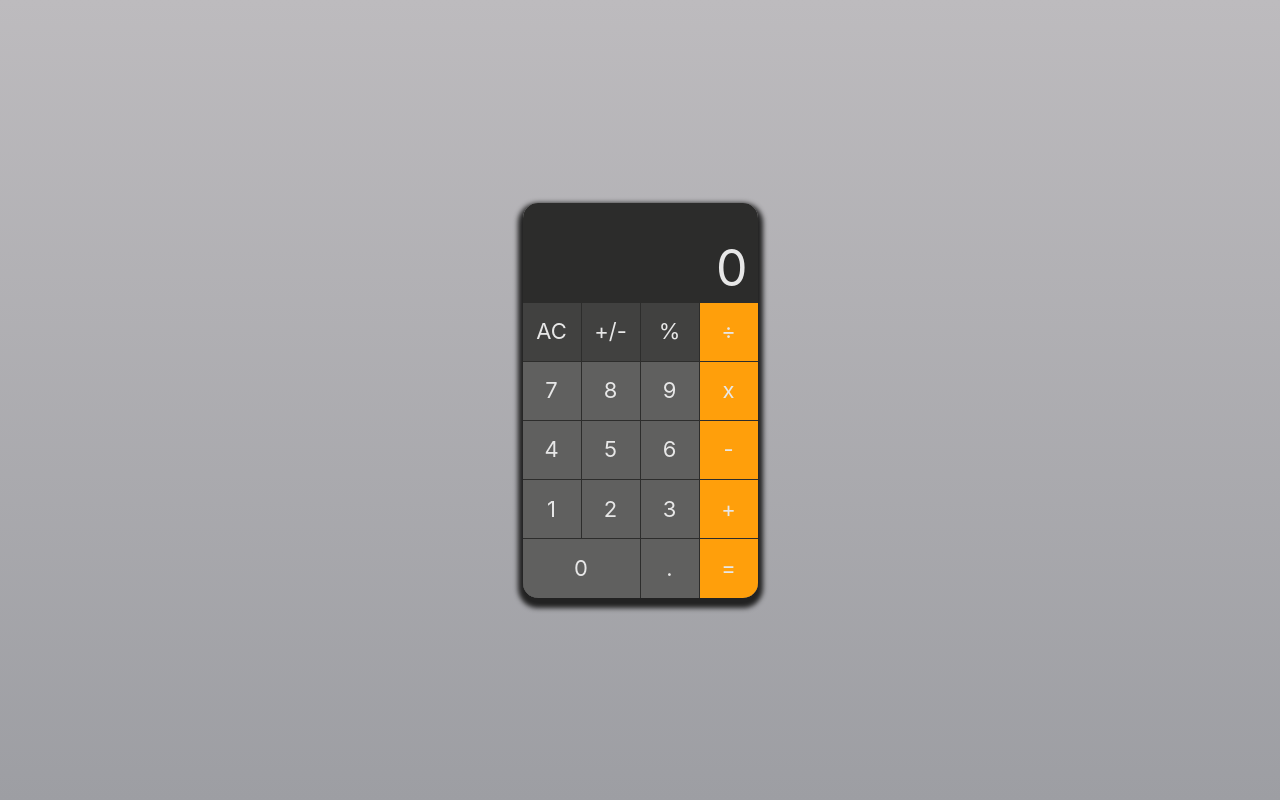
Calculator app › should handle multiplication of two numbers
The image size is (1280, 800).
Click the button "2" at x=610, y=509, box [582, 480, 640, 538]
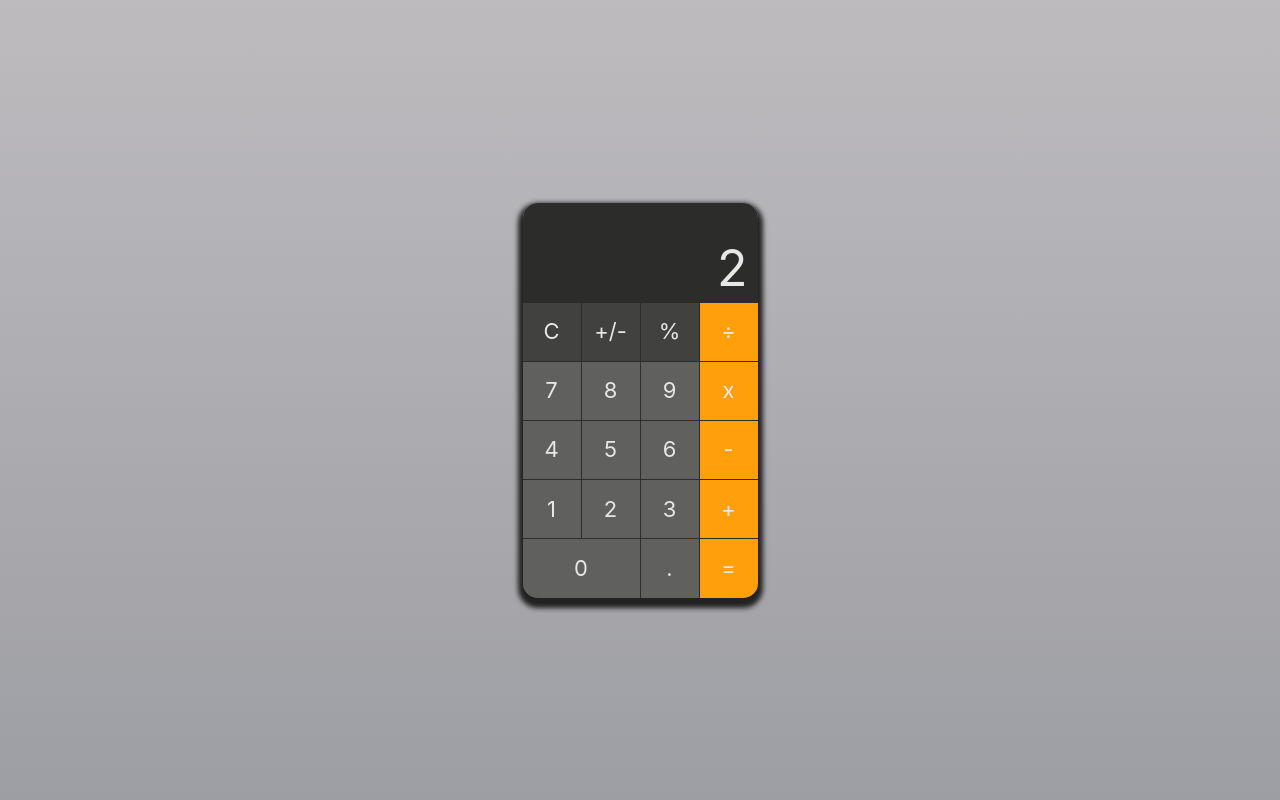
Click the button "x" at x=728, y=391, box [700, 362, 758, 420]
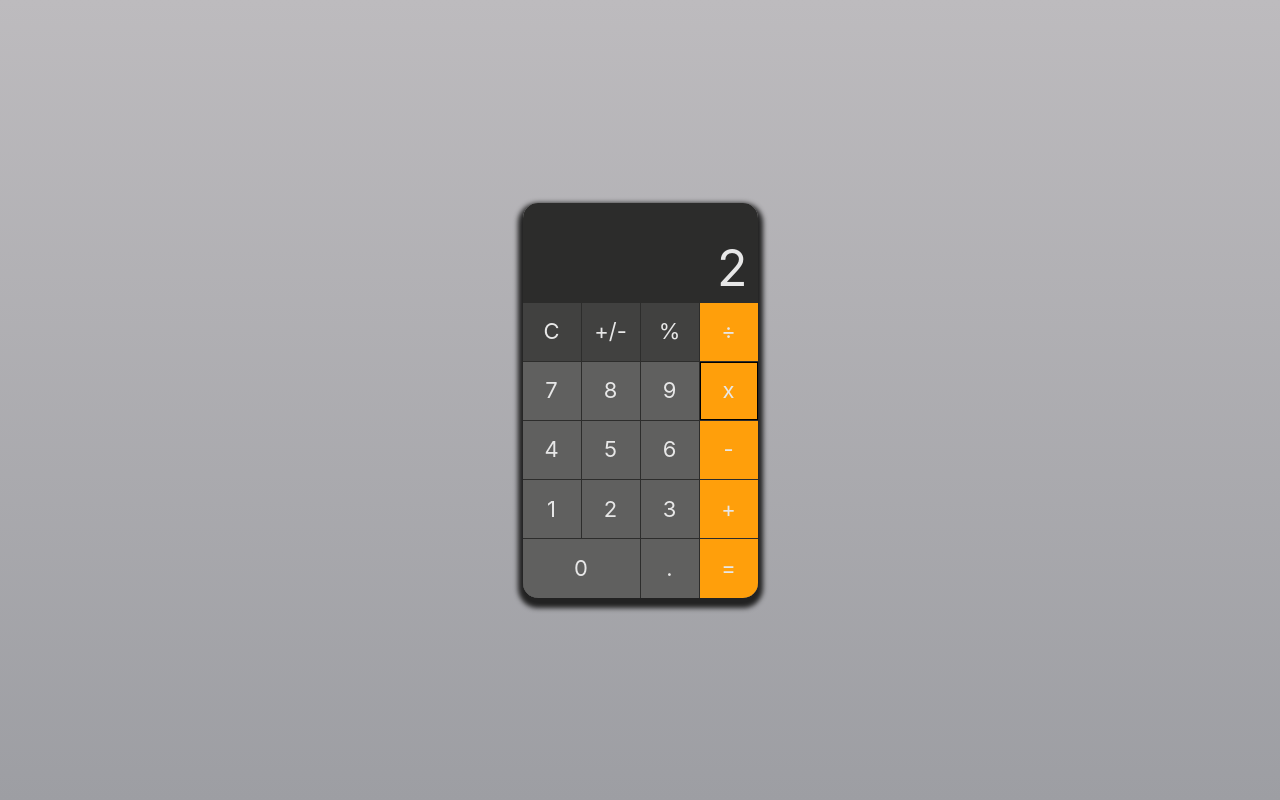
Click the button "3" at x=670, y=509, box [640, 480, 698, 538]
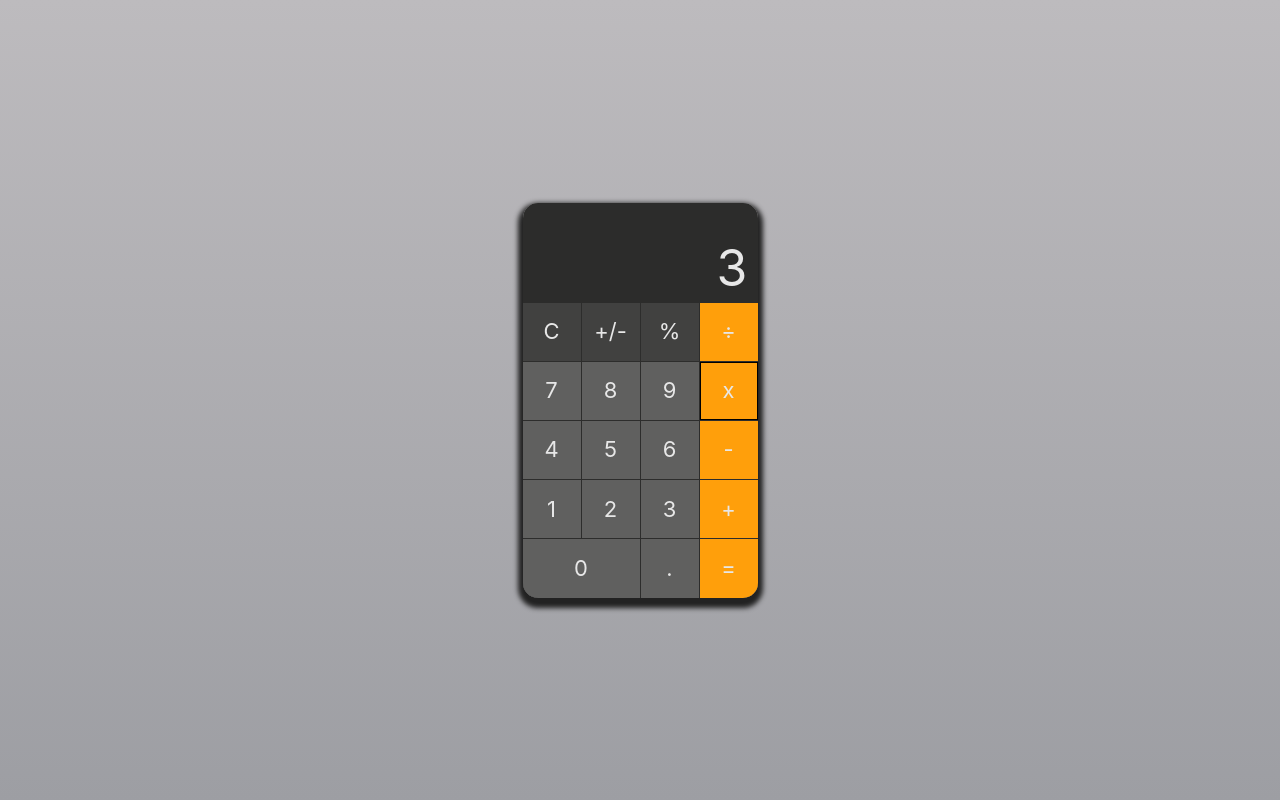
Click the button "=" at x=728, y=568, box [700, 539, 758, 598]
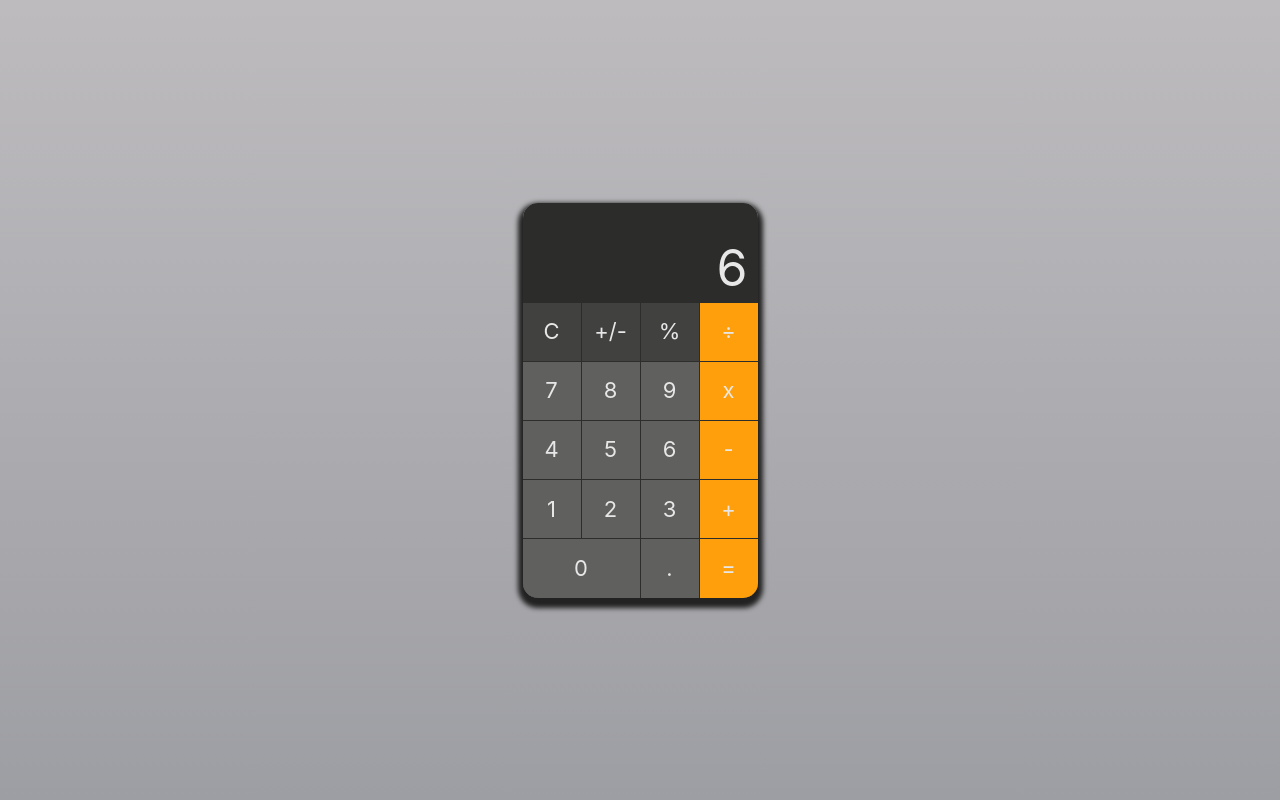
Check: the text "6" is shown, box [522, 202, 758, 302]
